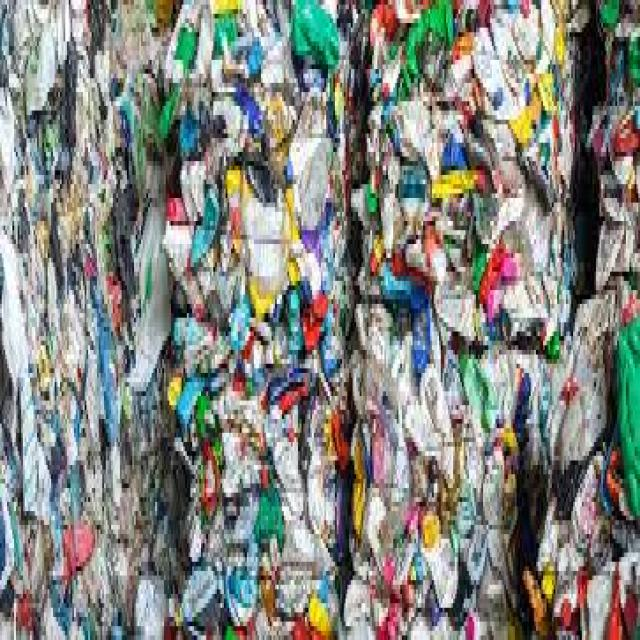plastic: (5, 19, 631, 618)
